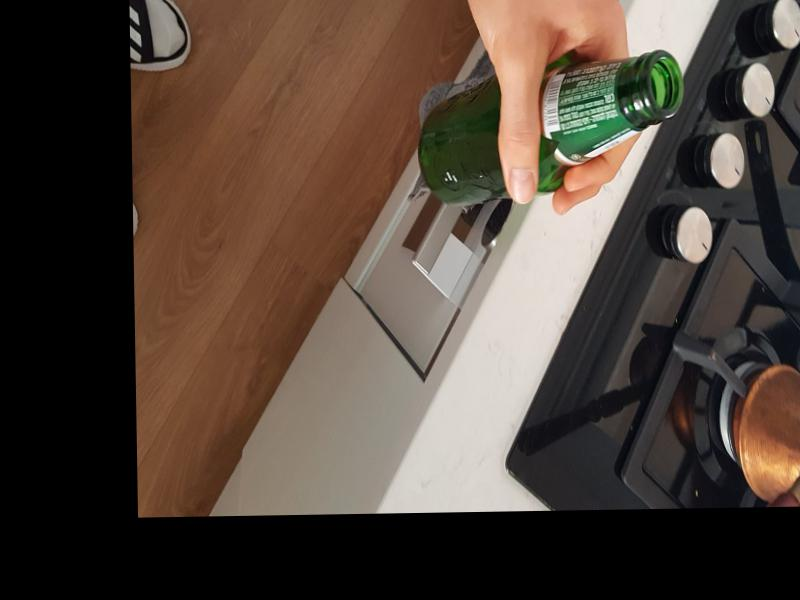Beer: (415, 50, 685, 203)
